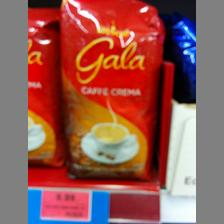Kaffee: (59, 0, 161, 180)
